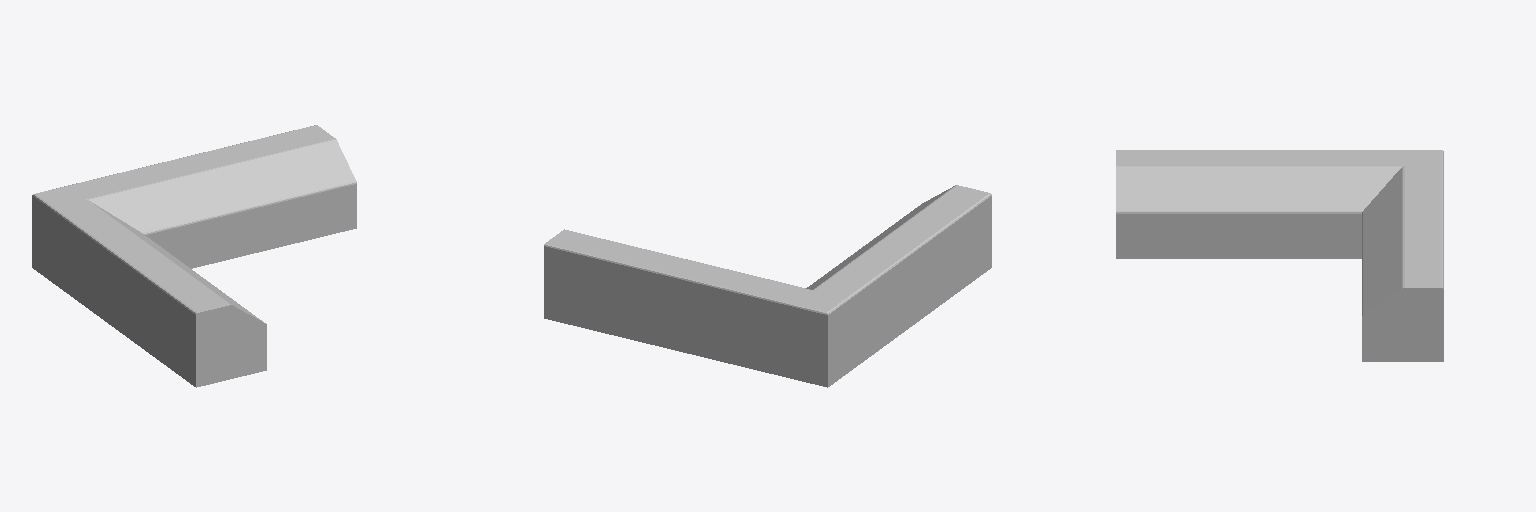
Rendered from Outside Corner_HP.obj.
3 views of the same model, side by side, from view 1: azimuth 30°, elevation 25°; view 2: azimuth 150°, elevation 25°; view 3: azimuth 270°, elevation 25° (orthographic).
Visible parts, largest first — view 1: Outside_Corner_HP; view 2: Outside_Corner_HP; view 3: Outside_Corner_HP.
Part boxes in pixels (x1,y1,x2,y2): Outside_Corner_HP: (32,125,356,387); Outside_Corner_HP: (544,185,991,387); Outside_Corner_HP: (1116,150,1443,361).
Size of the model in its own units: 4 by 1 by 4.